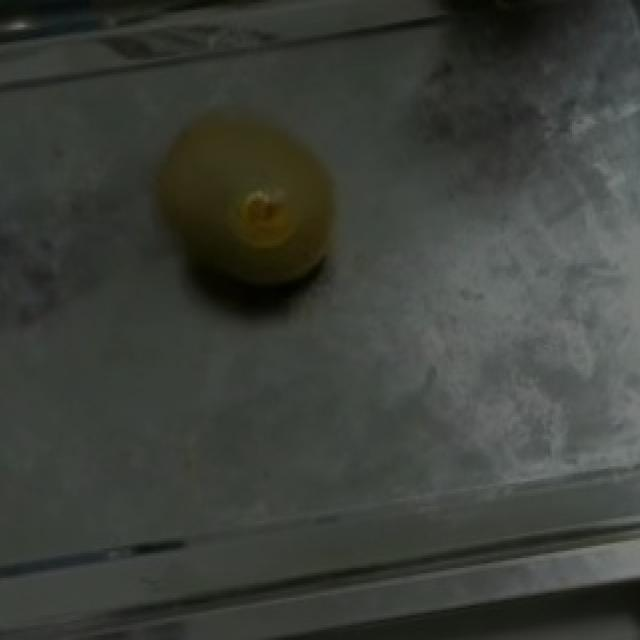Fruit: (120, 87, 370, 335)
